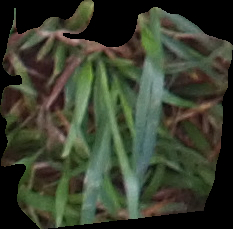grass: (1, 1, 232, 228)
